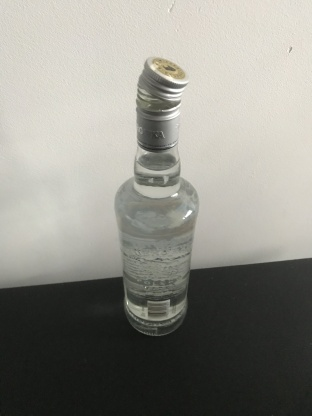nakretka: (134, 55, 190, 152)
